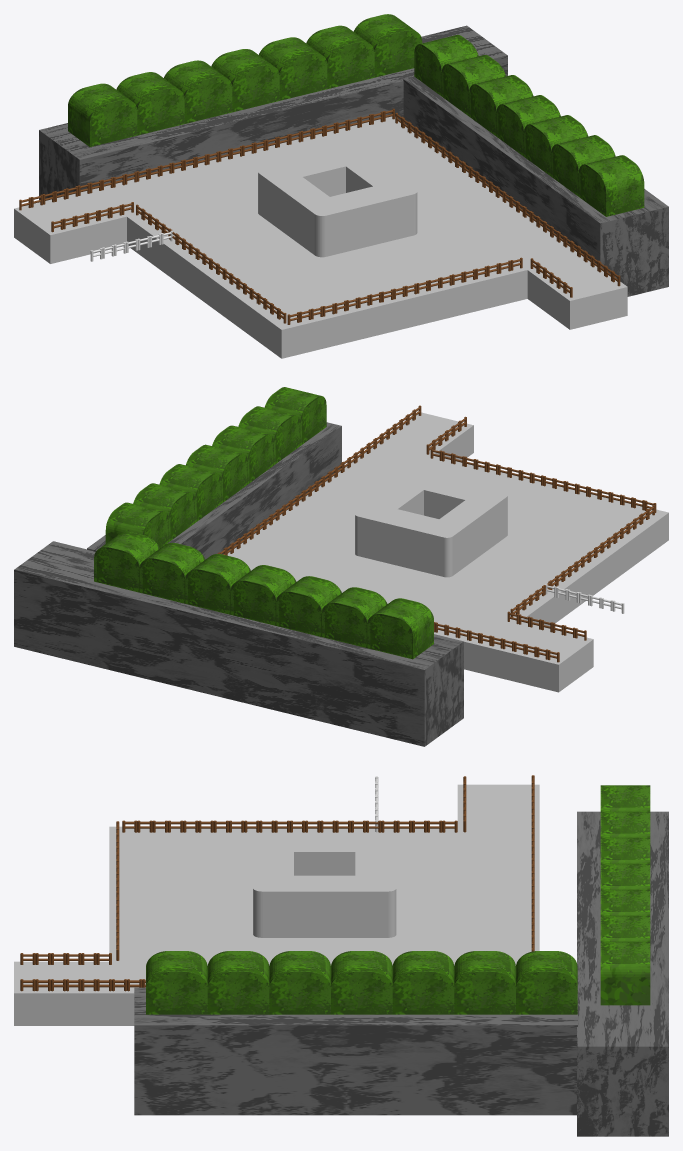
Rendered from steag02.fbx.
3 renders of one model, top to bottom at view 1: azimuth 30°, elevation 25°; view 2: azimuth 150°, elevation 25°; view 3: azimuth 270°, elevation 25°, orthographic. The views are drawn at different scales.
Visible parts, largest first — view 1: 立方体.002, 葉, 立方体, 葉.001, 立方体.001, 柵, 円柱.006; view 2: 立方体.002, 立方体, 葉, 葉.001, 立方体.001, 柵, 円柱.006; view 3: 立方体.002, 立方体.001, 葉.001, 立方体, 葉, 柵.
Part boxes in pixels (x1,y1,x2,y2): 立方体.002: [14, 116, 627, 358]; 葉: [68, 14, 422, 146]; 立方体: [39, 25, 507, 199]; 葉.001: [414, 34, 644, 216]; 立方体.001: [403, 76, 668, 296]; 柵: [19, 108, 620, 324]; 円柱.006: [90, 230, 172, 261]; 立方体.002: [227, 412, 668, 692]; 立方体: [14, 541, 463, 746]; 葉: [94, 531, 433, 659]; 葉.001: [105, 387, 326, 548]; 立方体.001: [87, 422, 341, 559]; 柵: [217, 405, 656, 662]; 円柱.006: [545, 584, 624, 613]; 立方体.002: [14, 784, 539, 1025]; 立方体.001: [134, 987, 577, 1115]; 葉.001: [146, 951, 577, 1014]; 立方体: [577, 811, 668, 1136]; 葉: [600, 785, 650, 1005]; 柵: [20, 775, 534, 991].
Size of the model in its own units: 7306 by 7396 by 1656.
